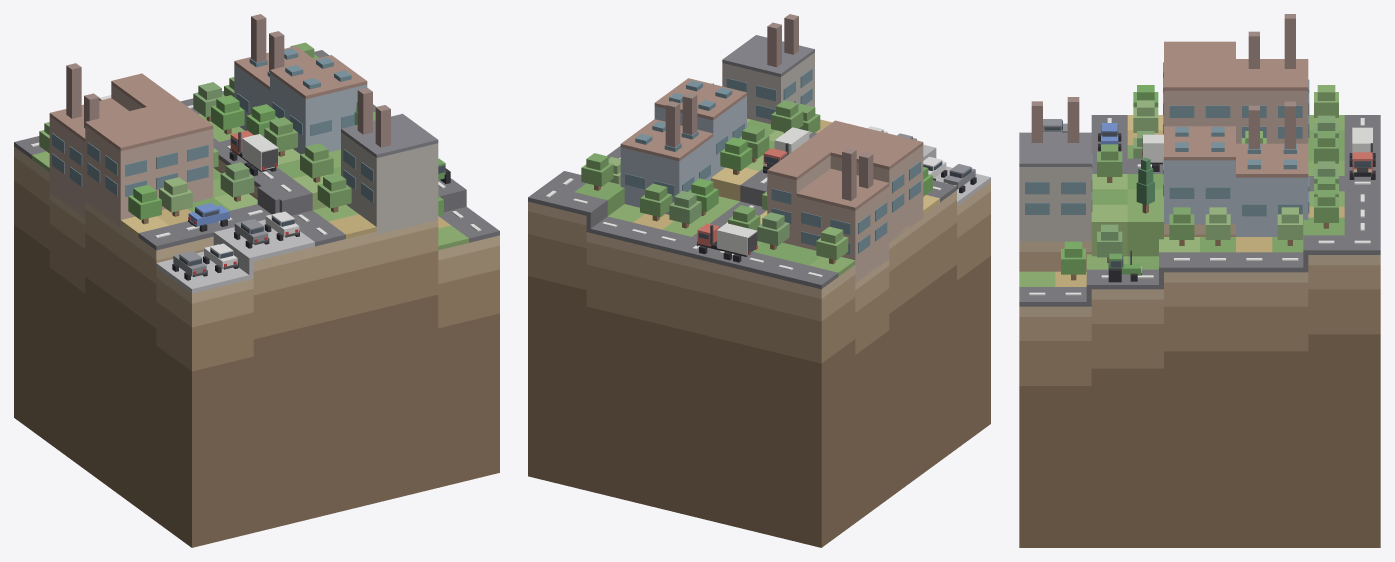
File: block_10_base.glb
The picture shows the model from 3 angles, left to right: view 1: azimuth 30°, elevation 25°; view 2: azimuth 150°, elevation 25°; view 3: azimuth 270°, elevation 25°; orthographic projection. The views are drawn at different scales.
Parts seen in each view (by area): view 1: Patch_LowerLeft_b10, Factories_LowerLeft_b10, Roads_LowerLeft_b10, Ground_LowerLeft_b10, Parking_LowerLeft_b10, Asset_Truck.003, Asset_Tree_Round.049, Asset_Tree_Round.061, Asset_Tree_Round.057, Asset_Tree_Round.047, Asset_Tree_Round.036, Asset_Tree_Round.048 (+8 smaller); view 2: Patch_LowerLeft_b10, Factories_LowerLeft_b10, Roads_LowerLeft_b10, Ground_LowerLeft_b10, Asset_Truck.002, Asset_Truck.003, Asset_Tree_Round.029, Asset_Tree_Round.024, Asset_Tree_Round.042, Asset_Tree_Round.025, Asset_Tree_Round.027, Asset_Tree_Round.028 (+7 smaller); view 3: Patch_LowerLeft_b10, Factories_LowerLeft_b10, Roads_LowerLeft_b10, Ground_LowerLeft_b10, Asset_Truck.002, Asset_Tree_Round.062, RoadLines_LowerLeft_b10, Asset_Tree_Round.037, Asset_Tree_Round.043, Asset_Tree_Round.045, Asset_Tree_Round.057, Asset_Tree_Round.029 (+8 smaller).
Part boxes in pixels (x1,y1,x2,y2): Patch_LowerLeft_b10: (14, 146, 499, 547); Factories_LowerLeft_b10: (49, 14, 438, 234); Roads_LowerLeft_b10: (14, 50, 499, 250); Ground_LowerLeft_b10: (32, 114, 468, 250); Parking_LowerLeft_b10: (156, 219, 314, 293); Asset_Truck.003: (229, 130, 278, 176); Asset_Tree_Round.049: (220, 162, 254, 201); Asset_Tree_Round.061: (317, 173, 351, 212); Asset_Tree_Round.057: (300, 143, 333, 182); Asset_Tree_Round.047: (128, 185, 161, 224); Asset_Tree_Round.036: (211, 95, 244, 134); Asset_Tree_Round.048: (159, 177, 192, 216); Patch_LowerLeft_b10: (528, 181, 990, 547); Factories_LowerLeft_b10: (620, 14, 923, 283); Roads_LowerLeft_b10: (528, 132, 956, 289); Ground_LowerLeft_b10: (575, 118, 939, 276); Asset_Truck.002: (696, 223, 757, 262); Asset_Truck.003: (763, 127, 809, 173); Asset_Tree_Round.029: (581, 153, 613, 190); Asset_Tree_Round.024: (816, 226, 848, 264); Asset_Tree_Round.042: (720, 137, 752, 174); Asset_Tree_Round.025: (757, 212, 789, 249); Asset_Tree_Round.027: (669, 190, 701, 228); Asset_Tree_Round.028: (640, 183, 672, 221); Patch_LowerLeft_b10: (1019, 224, 1380, 547); Factories_LowerLeft_b10: (1019, 14, 1309, 241); Roads_LowerLeft_b10: (1019, 115, 1380, 306); Ground_LowerLeft_b10: (1019, 115, 1344, 286); Asset_Truck.002: (1349, 127, 1375, 179); Asset_Tree_Round.062: (1061, 241, 1085, 280); RoadLines_LowerLeft_b10: (1029, 118, 1370, 295); Asset_Tree_Round.037: (1277, 207, 1302, 245); Asset_Tree_Round.043: (1205, 207, 1230, 245); Asset_Tree_Round.045: (1169, 207, 1194, 245); Asset_Tree_Round.057: (1097, 144, 1122, 182); Asset_Tree_Round.029: (1314, 190, 1338, 228).
Size of the model in its own units: 9.52 by 11.46 by 9.5.
